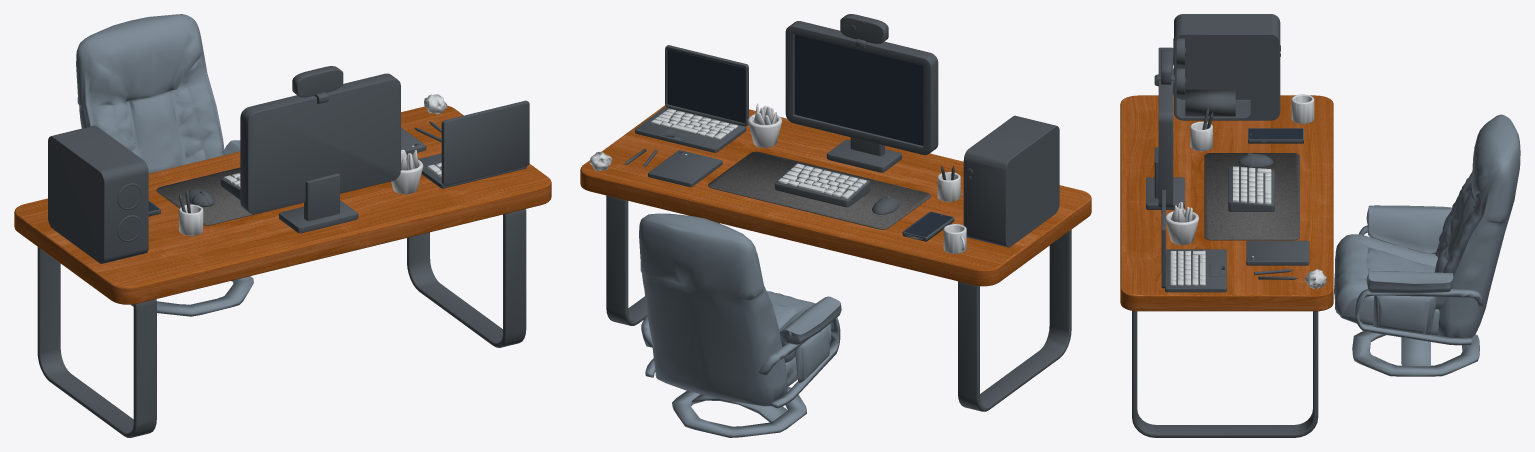
The model's file is standard-workstation.glb.
The picture shows the model from 3 angles, left to right: view 1: azimuth 30°, elevation 25°; view 2: azimuth 150°, elevation 25°; view 3: azimuth 270°, elevation 25°; orthographic projection. The views are drawn at different scales.
Parts seen in each view (by area): view 1: FRAME_ELECTRONICS, WOOD_TOP, CHAIR, KEYS_ACCESSORIES, DESK_MAT; view 2: FRAME_ELECTRONICS, CHAIR, WOOD_TOP, SCREENS_OFF, DESK_MAT, KEYS_ACCESSORIES; view 3: CHAIR, WOOD_TOP, FRAME_ELECTRONICS, DESK_MAT, KEYS_ACCESSORIES, SCREENS_OFF.
Boxes of the visible parts, left/top/right/bottom form: FRAME_ELECTRONICS: left=37, top=66, right=529, bottom=437; WOOD_TOP: left=14, top=105, right=551, bottom=304; CHAIR: left=76, top=14, right=253, bottom=316; KEYS_ACCESSORIES: left=179, top=94, right=447, bottom=235; DESK_MAT: left=156, top=167, right=253, bottom=225; FRAME_ELECTRONICS: left=606, top=14, right=1071, bottom=411; CHAIR: left=639, top=213, right=841, bottom=437; WOOD_TOP: left=580, top=105, right=1091, bottom=286; SCREENS_OFF: left=667, top=34, right=952, bottom=237; DESK_MAT: left=708, top=151, right=930, bottom=229; KEYS_ACCESSORIES: left=589, top=103, right=966, bottom=253; CHAIR: left=1334, top=114, right=1520, bottom=376; WOOD_TOP: left=1120, top=95, right=1333, bottom=311; FRAME_ELECTRONICS: left=1132, top=14, right=1318, bottom=437; DESK_MAT: left=1204, top=153, right=1299, bottom=240; KEYS_ACCESSORIES: left=1166, top=94, right=1326, bottom=288; SCREENS_OFF: left=1249, top=128, right=1302, bottom=139.
Size of the model in its own units: 2.09 by 1.42 by 1.76.
Materials: 6 (2 with a texture image).
